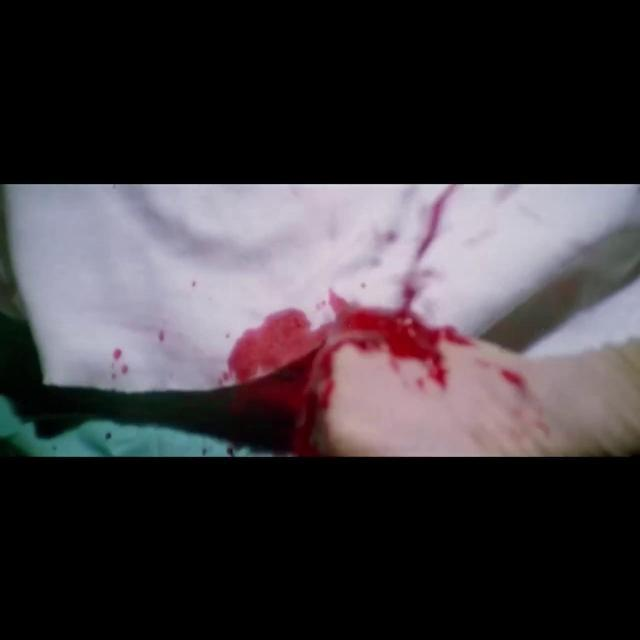blood: (0, 186, 472, 456)
